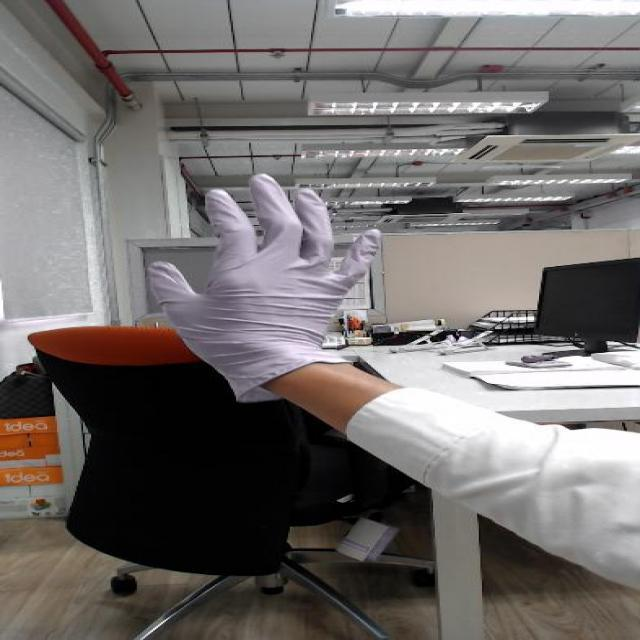with_gloves: (124, 158, 410, 352)
